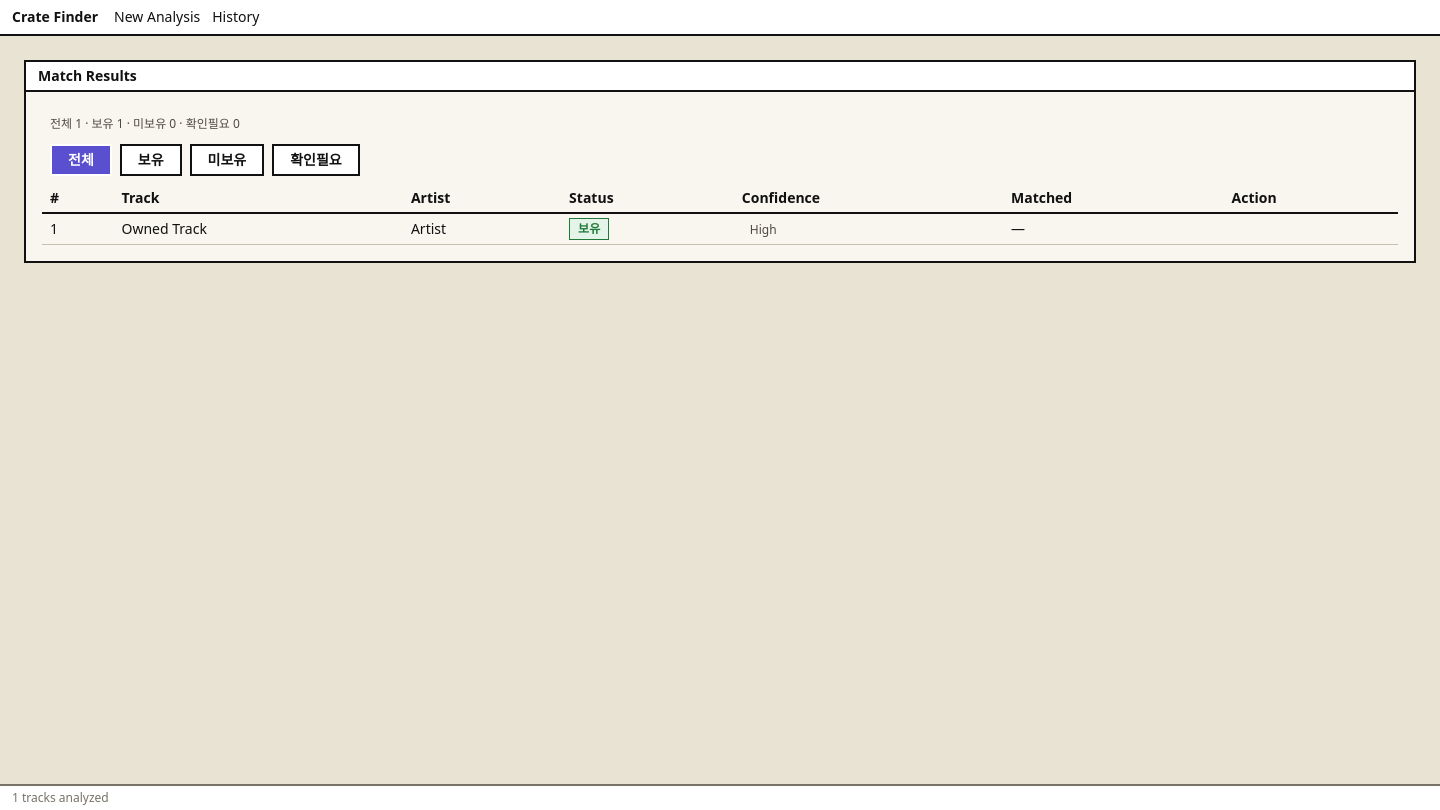
ResultsPage › 필터 결과가 없으면 No results를 표시한다
expect the text "Owned Track" is shown: met, box [114,213,403,244]
Click the button "미보유". click: [227, 160]
box: [190,144,264,176]
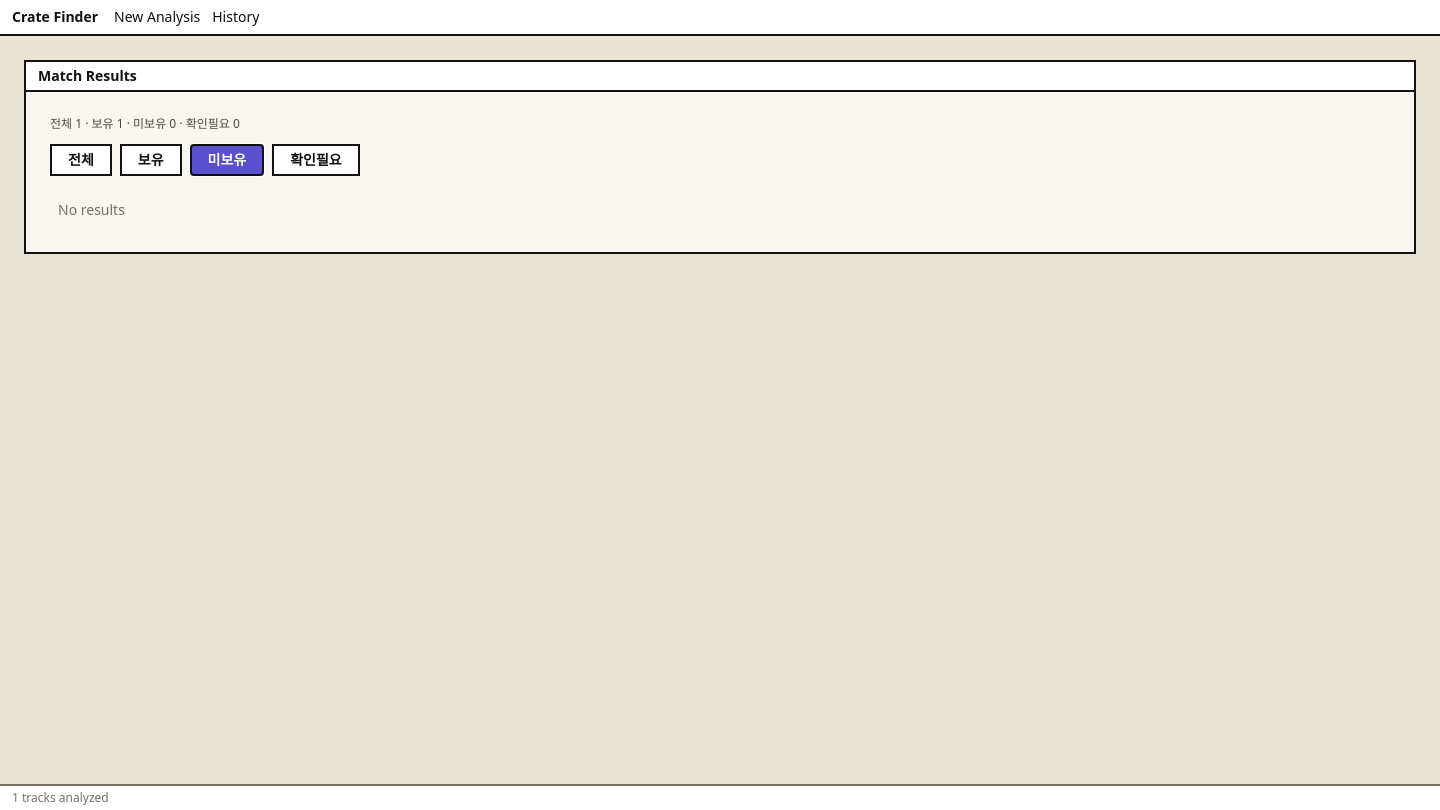
expect the text "No results" is shown: met, box [58,200,125,219]
